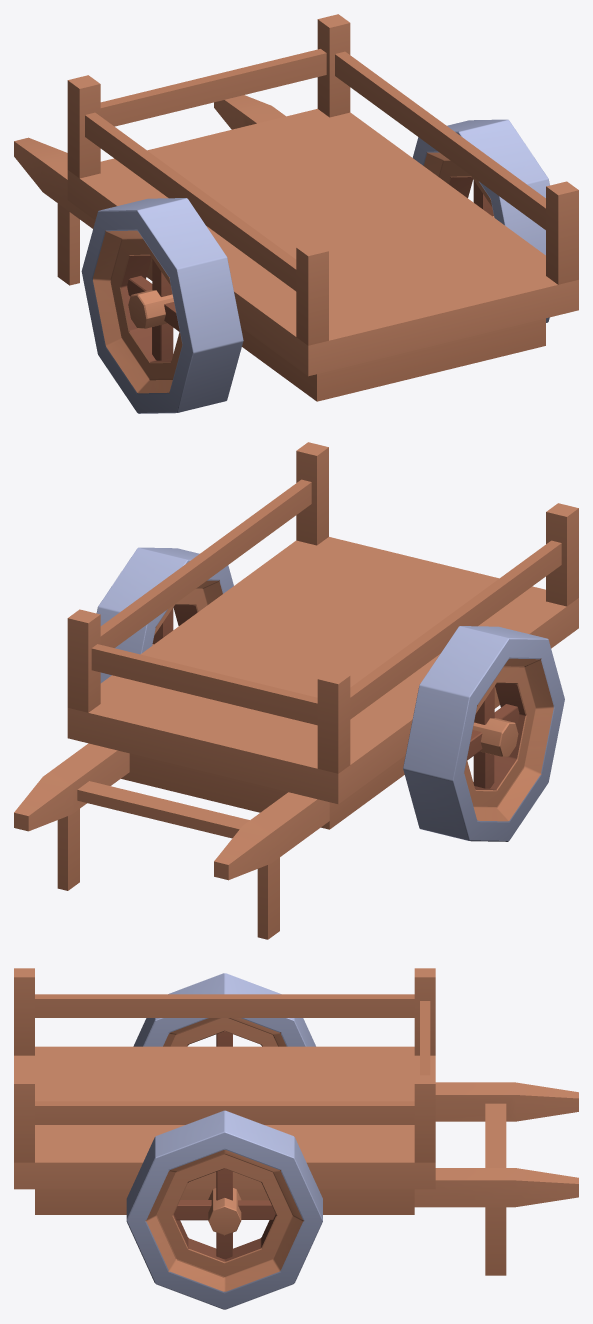
Rendered from kenney-fantasy-town__cart.glb.
The picture shows the model from 3 angles, top to bottom: view 1: azimuth 30°, elevation 25°; view 2: azimuth 150°, elevation 25°; view 3: azimuth 270°, elevation 25°; orthographic projection. The views are drawn at different scales.
Visible parts, largest first — view 1: cart, Group.001, Group; view 2: cart, Group.001, Group; view 3: cart, Group, Group.001.
Part boxes in pixels (x1,y1,x2,y2): cart: (14,14,578,401); Group.001: (81,198,243,413); Group: (412,119,549,322); cart: (14,442,578,939); Group.001: (403,626,564,841); Group: (96,547,233,683); cart: (14,968,578,1275); Group: (126,1110,322,1309); Group.001: (133,973,315,1046).
Bounding box in the file's own units: 0.893 × 0.5355 × 1.34.
1 material, 1 textured.
